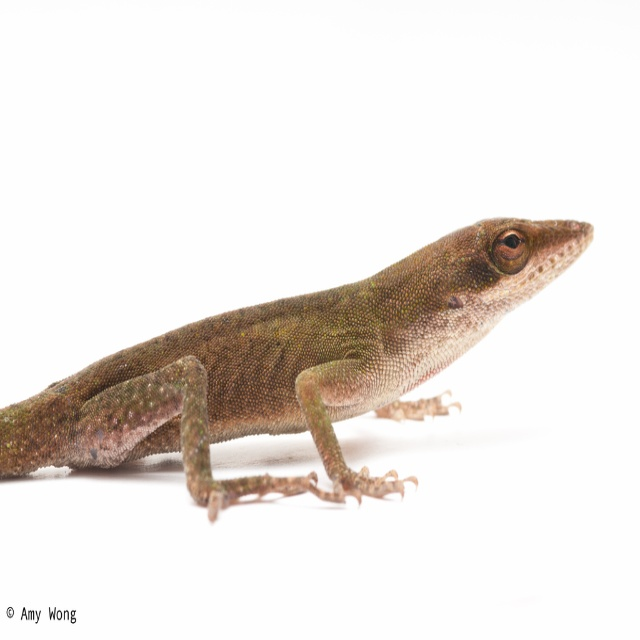Lizard: (0, 216, 595, 524)
